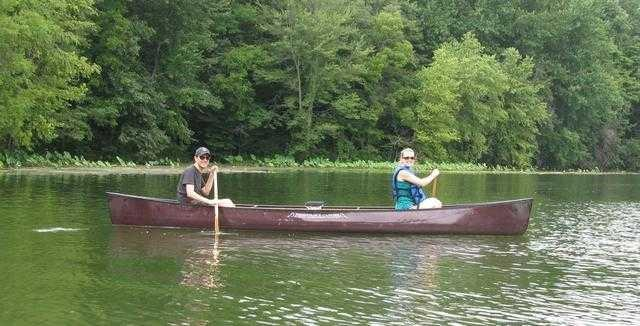kayak: (105, 194, 533, 236)
